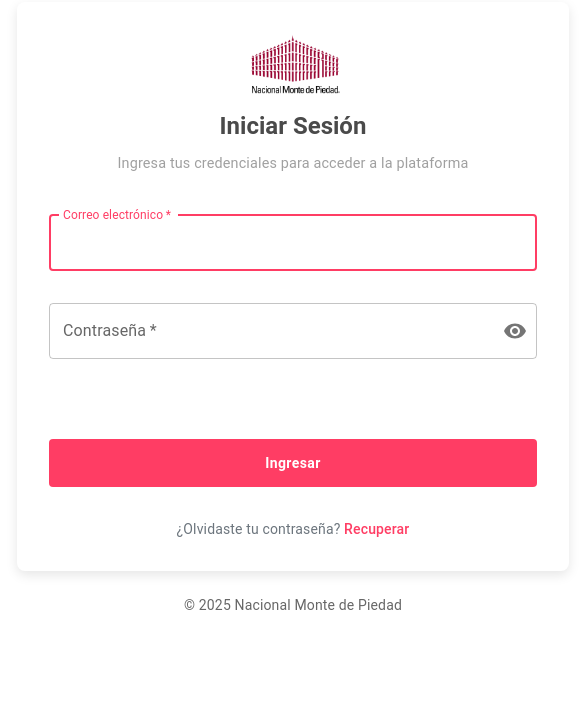
Test: Login Component › shows error for invalid email format
Type "invalid-email" into the field labelled "Correo electrónico *" at (293, 243), box x1=49 y1=215 x2=537 y2=271
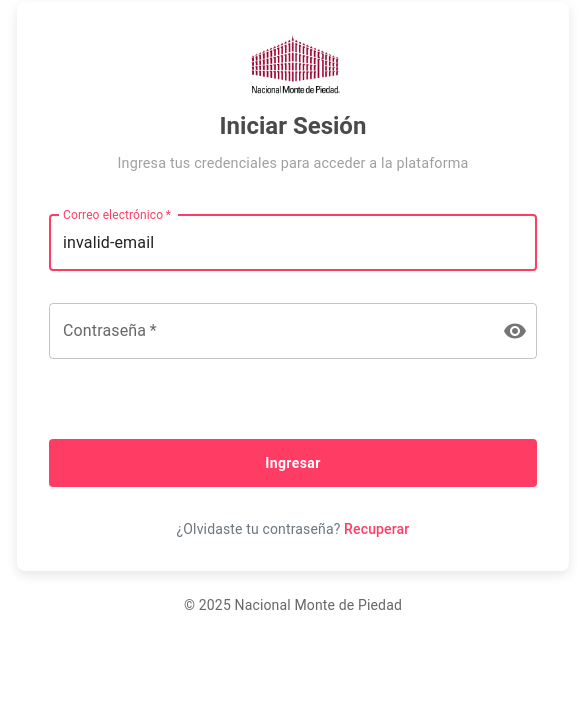
Click the button "Ingresar" at (293, 463), box x1=49 y1=439 x2=537 y2=487
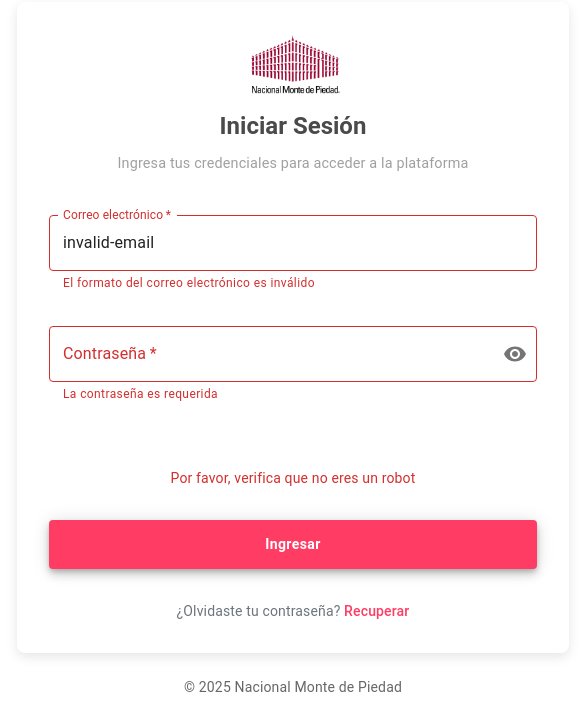
Expected: the text "El formato del correo electrónico es inválido" is shown, x1=63 y1=276 x2=315 y2=290
